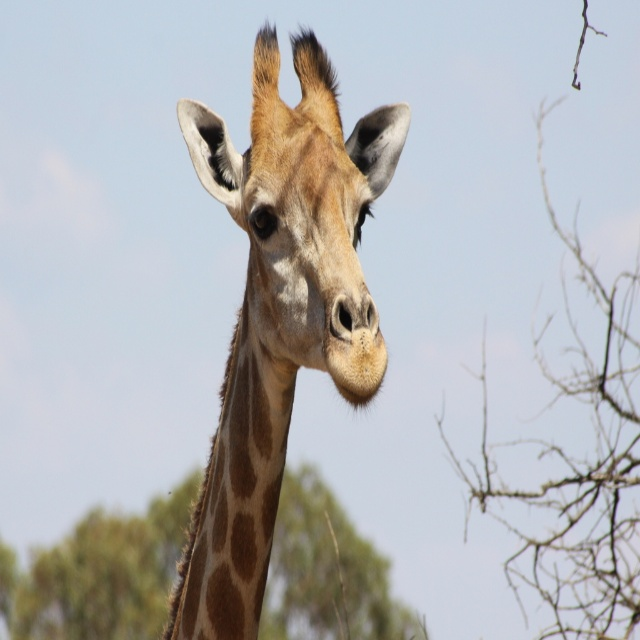Giraffe: (152, 50, 408, 640)
